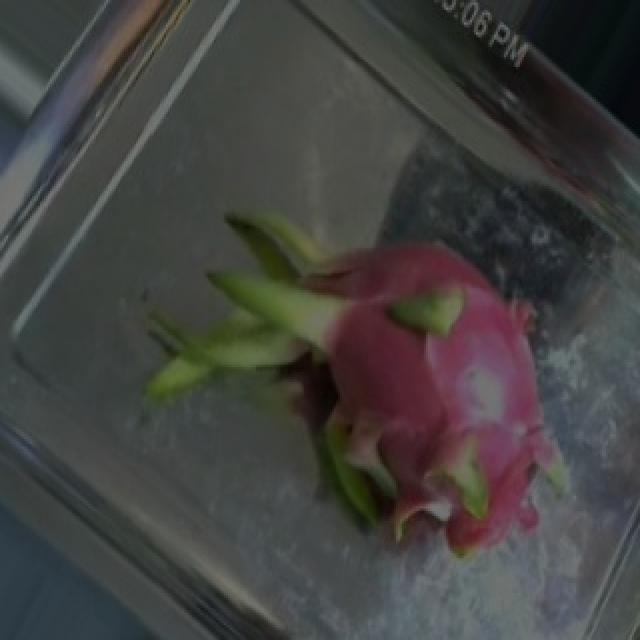fruit: (172, 134, 628, 608)
